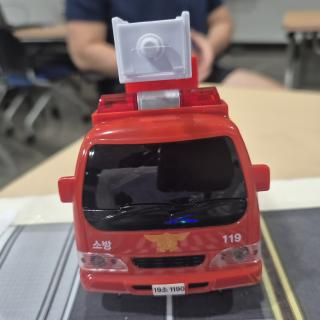Fire_truck: (58, 79, 270, 298)
